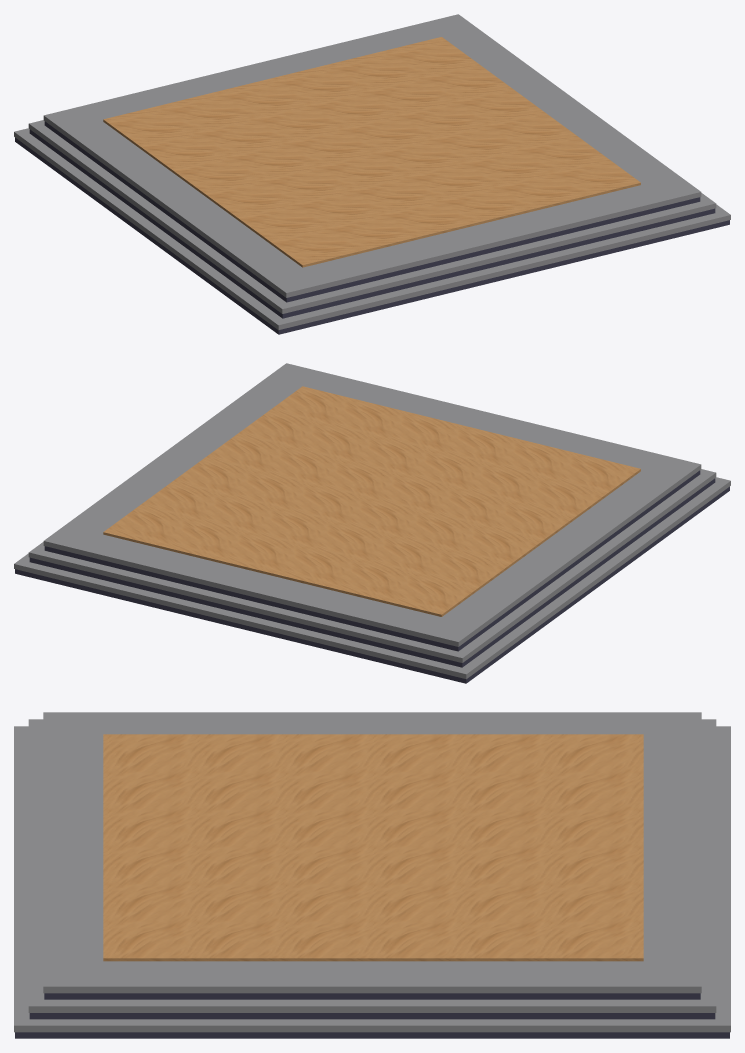
Rendered from Arena.fbx.
The picture shows the model from 3 angles, top to bottom: view 1: azimuth 30°, elevation 25°; view 2: azimuth 150°, elevation 25°; view 3: azimuth 270°, elevation 25°; orthographic projection. The views are drawn at different scales.
Parts seen in each view (by area): view 1: mergedBlocks; view 2: mergedBlocks; view 3: mergedBlocks.
Part boxes in pixels (left/top/right/bottom): mergedBlocks: left=14, top=14, right=730, bottom=334; mergedBlocks: left=14, top=363, right=730, bottom=683; mergedBlocks: left=14, top=712, right=730, bottom=1038.
Bounding box in the file's own units: 80.2 × 5.4 × 81.2.
Materials: 3 (1 with a texture image).
